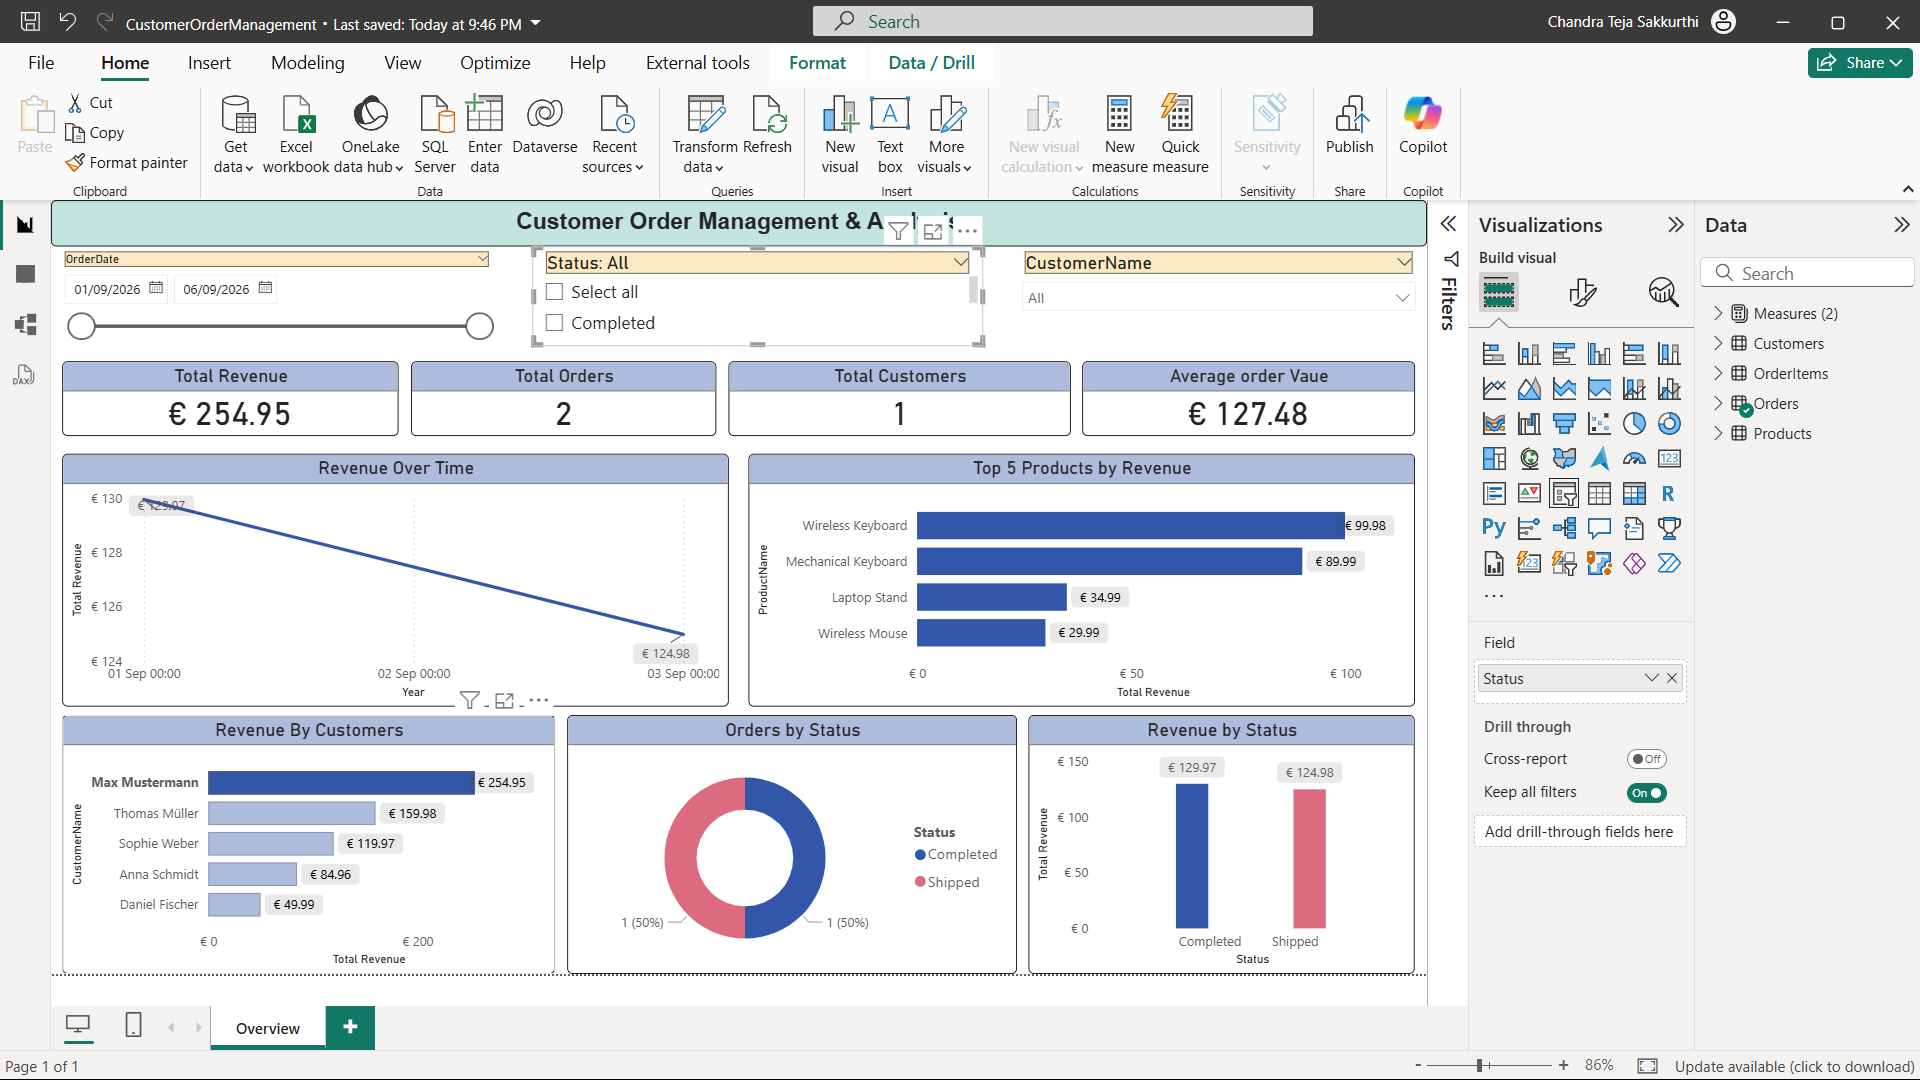

What the dashboard file says about the page in this screenshot:
{"tool":"powerbi","page":{"name":"Overview","canvas":[1280,720],"ordinal":0},"visuals":[{"type":"card","title":"Total Revenue","fields":{"Values":["Measures (2).Total Revenue"]},"box":[10.5,160.5,312.8,59.3],"z":0},{"type":"card","title":"Total Orders","fields":{"Values":["Measures (2).Total Orders"]},"box":[334.9,160.5,283.7,59.3],"z":1000},{"type":"card","title":"Total Customers","fields":{"Values":["Measures (2).Total Customers"]},"box":[630.2,160.5,318.6,59.3],"z":2000},{"type":"card","title":"Average order Vaue","fields":{"Values":["Measures (2).Average Order Value"]},"box":[959.3,160.5,309.3,59.3],"z":3000},{"type":"lineChart","title":"Revenue Over Time","fields":{"Y":["Measures (2).Total Revenue"],"Category":["Orders.OrderDate.Variation.Date Hierarchy.Year","Orders.OrderDate.Variation.Date Hierarchy.Quarter","Orders.OrderDate.Variation.Date Hierarchy.Month","Orders.OrderDate.Variation.Date Hierarchy.Day"]},"box":[10.5,236,619.8,234.9],"z":4000},{"type":"clusteredBarChart","title":"Revenue By Customers","fields":{"Category":["Customers.CustomerName"],"Y":["Measures (2).Total Revenue"],"Series":["Customers.CustomerID"]},"box":[10.5,479.1,458.1,240.7],"z":5000},{"type":"barChart","title":"Top 5 Products by Revenue","fields":{"Category":["Products.ProductName"],"Y":["Measures (2).Total Revenue"],"Series":["Products.ProductName"]},"box":[648.8,236,619.8,234.9],"z":6000},{"type":"slicer","title":"Date","fields":{"Values":["Orders.OrderDate"]},"box":[0,42.5,419.9,93.3],"z":7000},{"type":"slicer","fields":{"Values":["Orders.Status"]},"box":[447.7,43,419.8,93],"z":8000},{"type":"slicer","fields":{"Values":["Customers.CustomerName"]},"box":[893.3,42.5,387,93.3],"z":9000},{"type":"textbox","box":[0,0,1279.9,43],"z":10000},{"type":"clusteredColumnChart","title":"Revenue by Status","fields":{"Category":["Orders.Status"],"Y":["Measures (2).Total Revenue"],"Series":["Orders.Status"]},"box":[909.3,479.1,359.3,240.7],"z":11000},{"type":"donutChart","title":"Orders by Status","fields":{"Category":["Orders.Status"],"Y":["Measures (2).Total Orders by Product"]},"box":[480.2,479.1,418.6,240.7],"z":12000}]}

Visuals, with their boxes on the page's 1280x720 design canvas (x1, y1, x2, y2). These are canvas units, not pixel positions in the 1920x1080 screenshot, which may show the page scaled, cropped or inside an application window:
"Total Revenue" card: detection(10, 160, 323, 220)
"Total Orders" card: detection(335, 160, 619, 220)
"Total Customers" card: detection(630, 160, 949, 220)
"Average order Vaue" card: detection(959, 160, 1269, 220)
"Revenue Over Time" lineChart: detection(10, 236, 630, 471)
"Revenue By Customers" clusteredBarChart: detection(10, 479, 469, 720)
"Top 5 Products by Revenue" barChart: detection(649, 236, 1269, 471)
"Date" slicer: detection(0, 42, 420, 136)
slicer - Orders.Status: detection(448, 43, 868, 136)
slicer - Customers.CustomerName: detection(893, 42, 1280, 136)
textbox: detection(0, 0, 1280, 43)
"Revenue by Status" clusteredColumnChart: detection(909, 479, 1269, 720)
"Orders by Status" donutChart: detection(480, 479, 899, 720)
